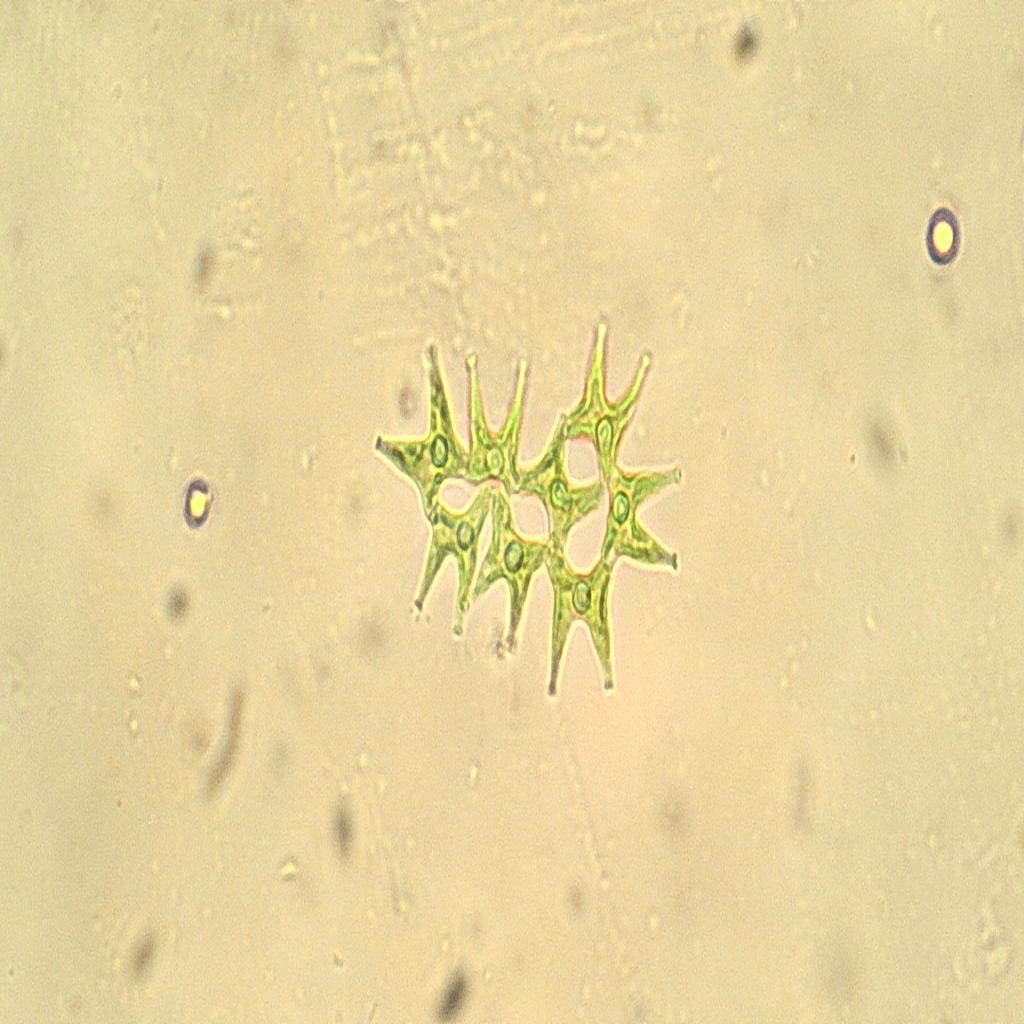Pediastrum_CFI: (366, 306, 686, 710)
